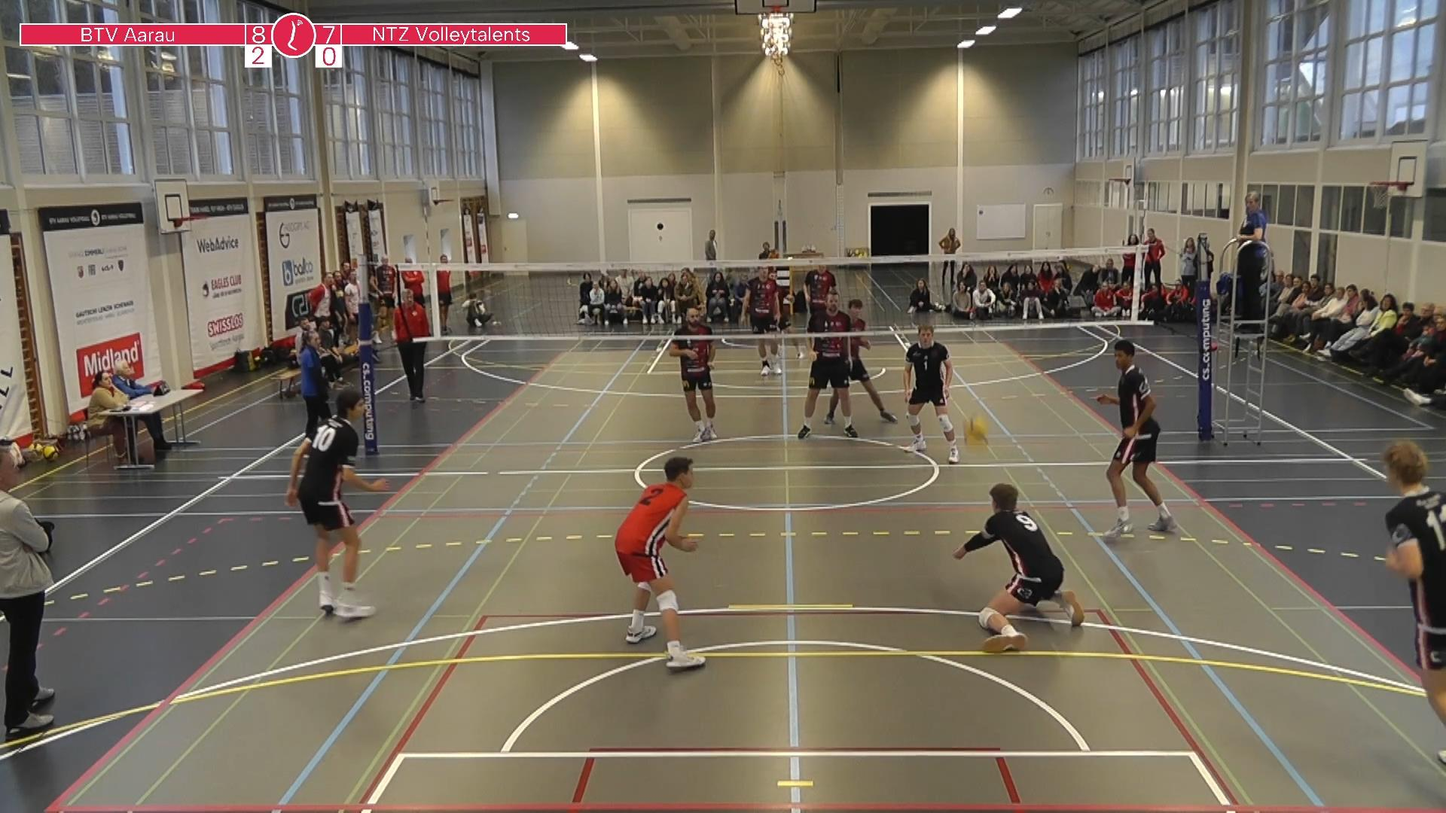Player: (285, 388, 389, 618), (615, 457, 704, 670), (1383, 441, 1445, 722), (1096, 340, 1177, 540), (798, 291, 858, 439), (905, 323, 959, 463), (668, 306, 715, 442), (743, 266, 782, 376), (850, 336, 896, 422), (770, 266, 809, 335), (804, 266, 836, 311)
Receive: (953, 479, 1086, 652)
ball: (956, 413, 993, 454)
